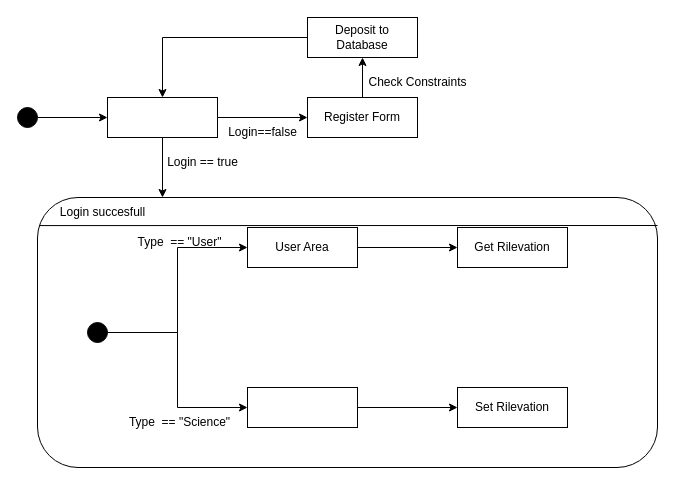
This 676x485 diagram has some shape labels left out. The shapes that lost their labels are listed below. From the top down, each one's centre as x and y in pixels, then its label:
At (162,117): "Login Form".
At (302,407): "Science Area".
